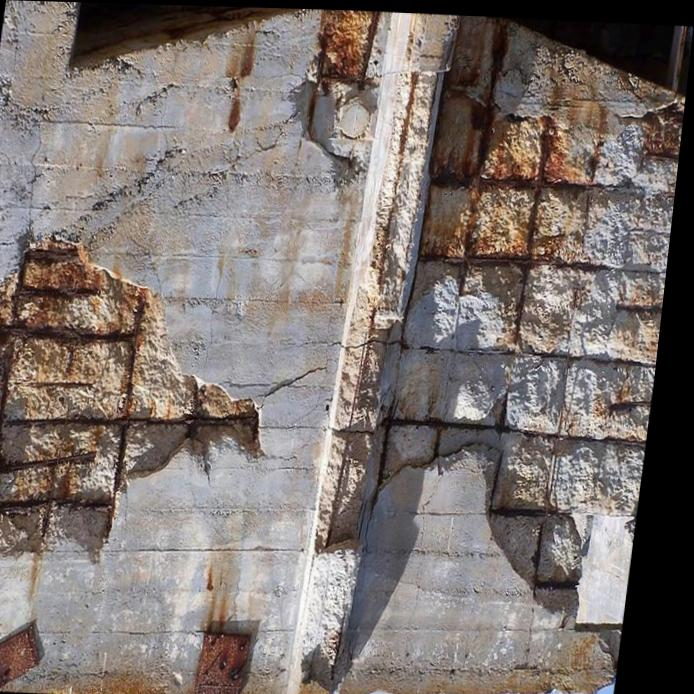crack: (92, 144, 186, 217), (267, 365, 336, 405), (288, 333, 408, 350), (255, 109, 303, 151), (134, 233, 169, 287), (31, 133, 50, 219), (0, 148, 18, 169), (300, 127, 308, 163)
damage: (328, 12, 687, 607), (0, 240, 270, 561), (315, 7, 380, 89)
